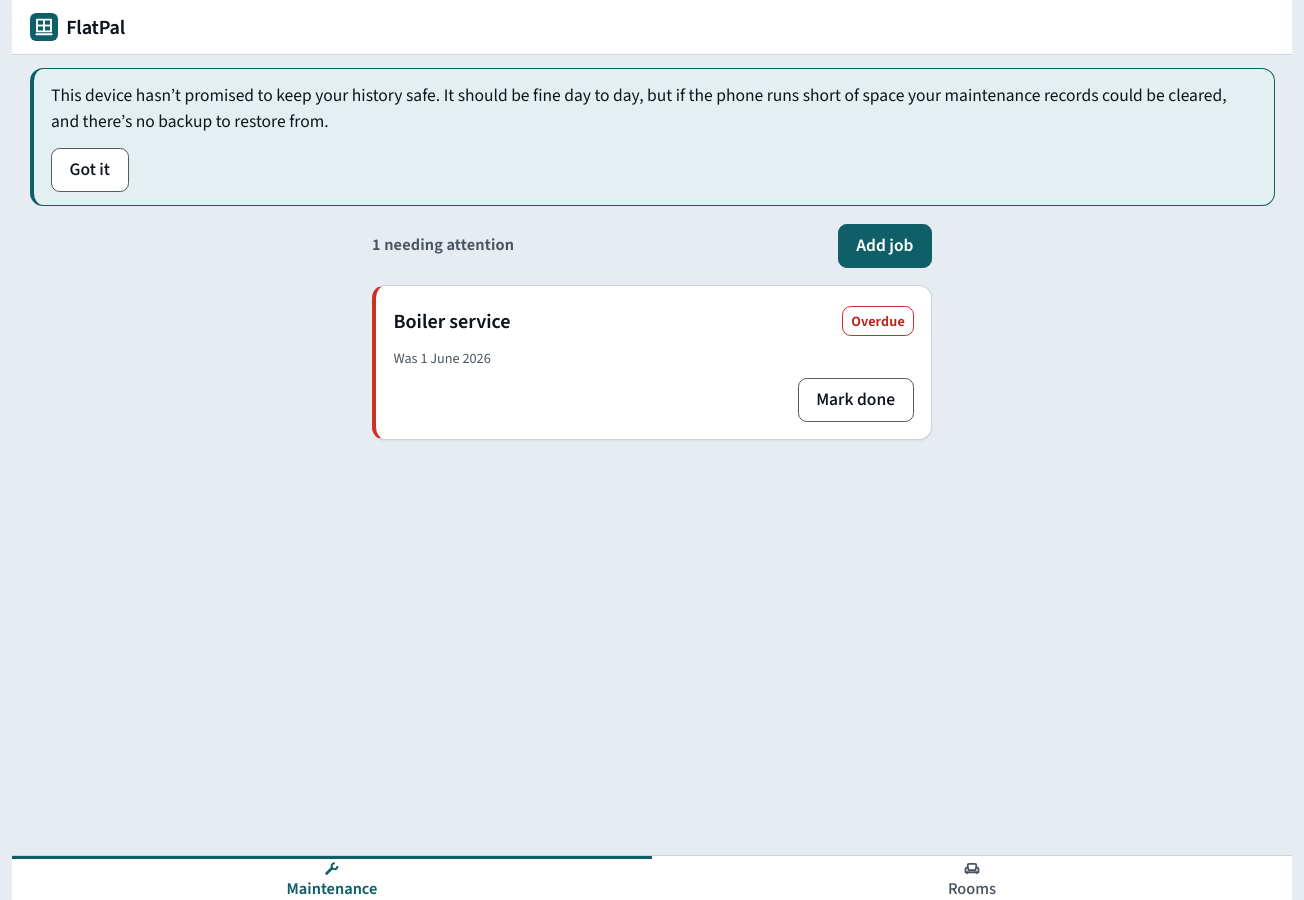
Scenario: moving between areas (FR-002) › reaches another area in a single action
Expected: the button "Boiler service" is shown, x1=394 y1=299 x2=511 y2=343
Click the button "Rooms" at (972, 878), box x1=652 y1=856 x2=1292 y2=899
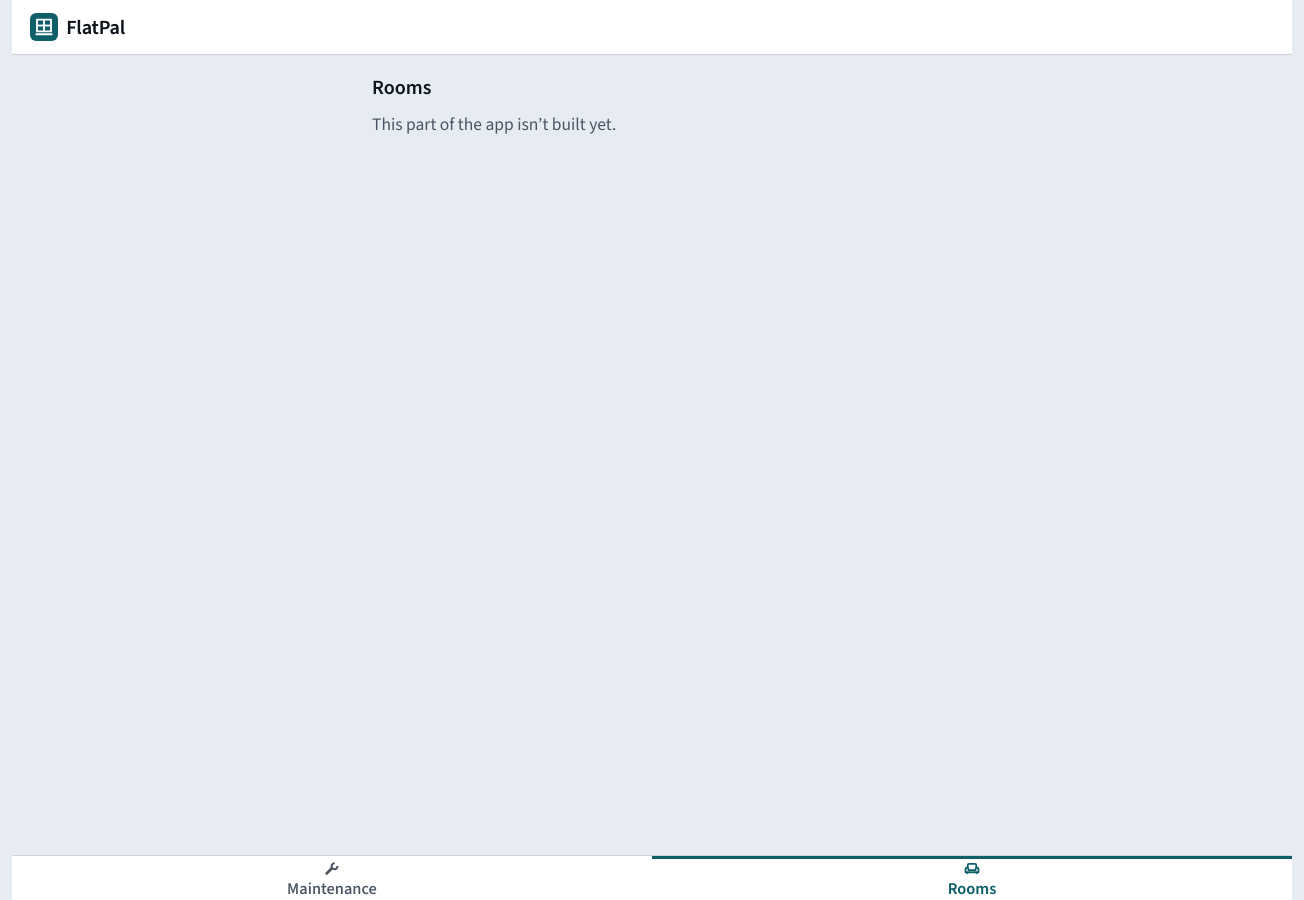
Expected: the heading "Rooms" is shown, x1=372 y1=73 x2=431 y2=102
Expected: the button "Boiler service" is gone
